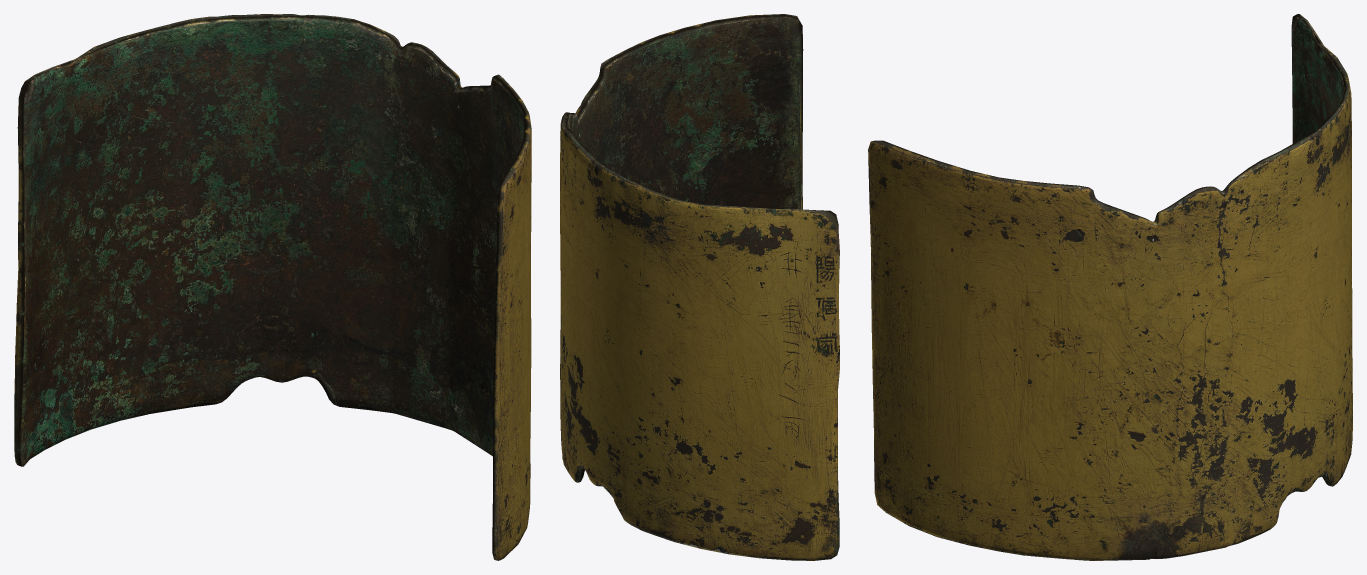
The model's file is rzhao.FBX.
3 renders of one model, left to right at view 1: azimuth 30°, elevation 25°; view 2: azimuth 150°, elevation 25°; view 3: azimuth 270°, elevation 25°, orthographic. The views are drawn at different scales.
Visible parts, largest first — view 1: Group58163; view 2: Group58163; view 3: Group58163.
Part boxes in pixels (x1,y1,x2,y2): Group58163: (14,14,531,560); Group58163: (560,14,839,560); Group58163: (868,14,1352,560).
Bounding box in the file's own units: 563 × 551 × 645.
Materials: 1 (1 with a texture image).
